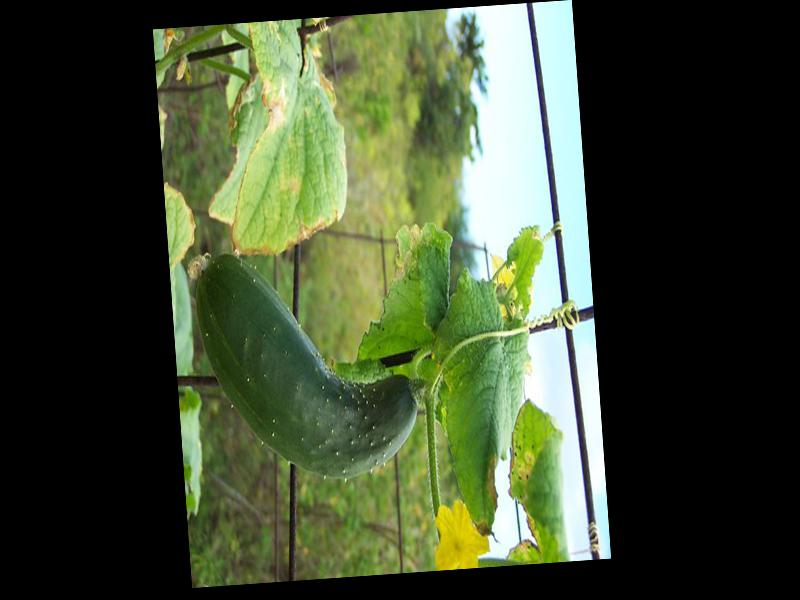Cucumber: (191, 237, 424, 485)
